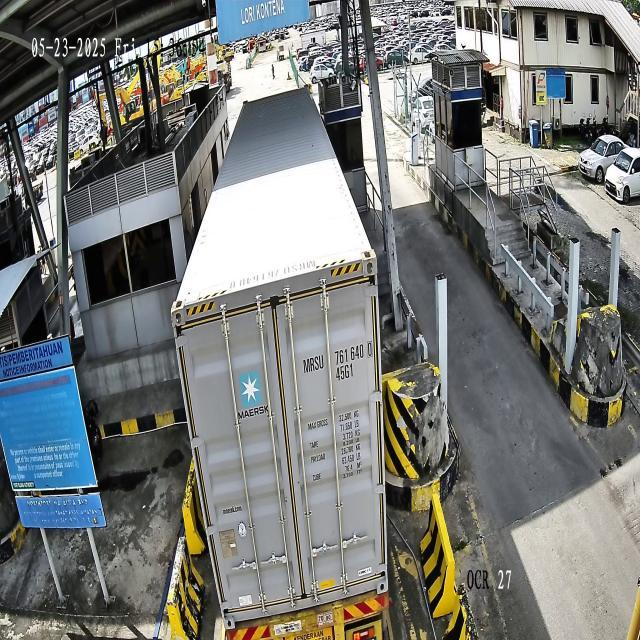ISO: (335, 362, 354, 382)
container_number: (302, 340, 373, 376)
